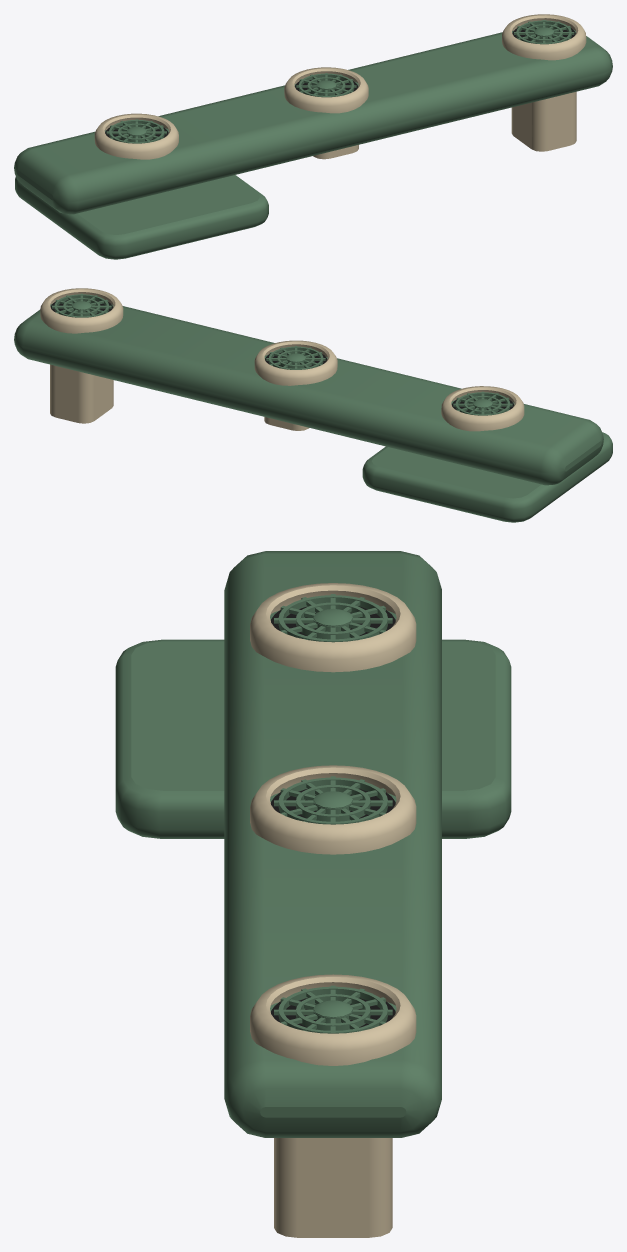
File: t200_fan.obj
3 views of the same model, one above another, from view 1: azimuth 30°, elevation 25°; view 2: azimuth 150°, elevation 25°; view 3: azimuth 270°, elevation 25° (orthographic). The views are drawn at different scales.
Parts seen in each view (by area): view 1: t200_fan; view 2: t200_fan; view 3: t200_fan.
Boxes of the visible parts, x1=… form: t200_fan: x1=14, y1=14, x2=612, y2=259; t200_fan: x1=14, y1=288, x2=612, y2=522; t200_fan: x1=115, y1=551, x2=511, y2=1237.
Size of the model in its own units: 6.4 by 1.18 by 2.
